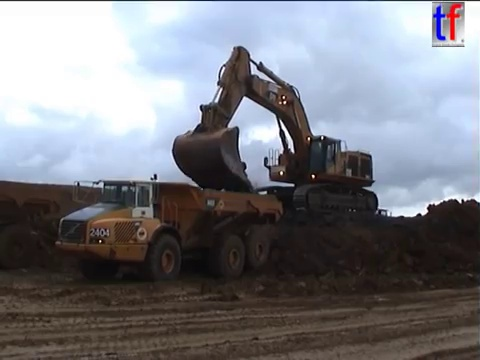excavator: (169, 43, 383, 218)
truck: (53, 171, 286, 283), (1, 177, 152, 274), (311, 205, 394, 238)
